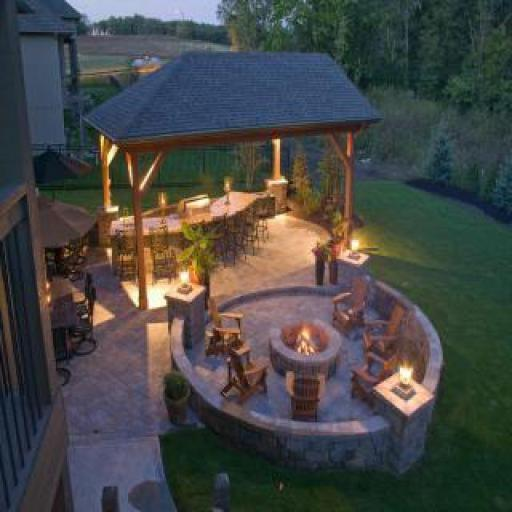smoke: (290, 323, 322, 363)
